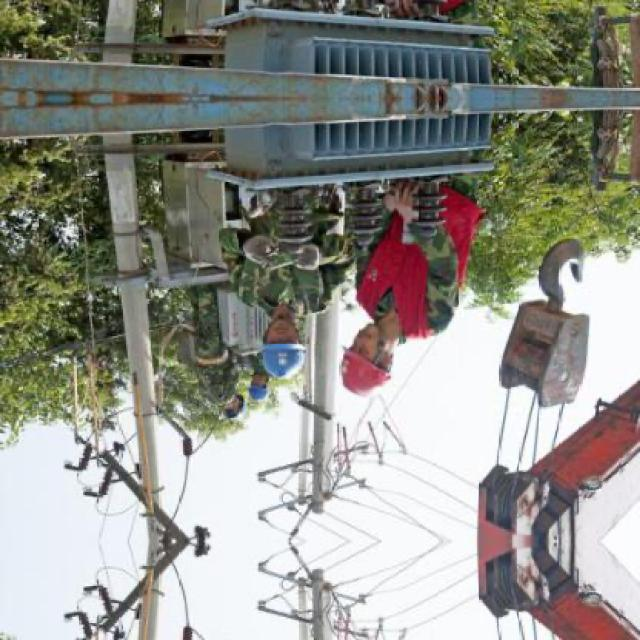con casco: (329, 280, 432, 410), (251, 294, 318, 389), (238, 362, 324, 418)
